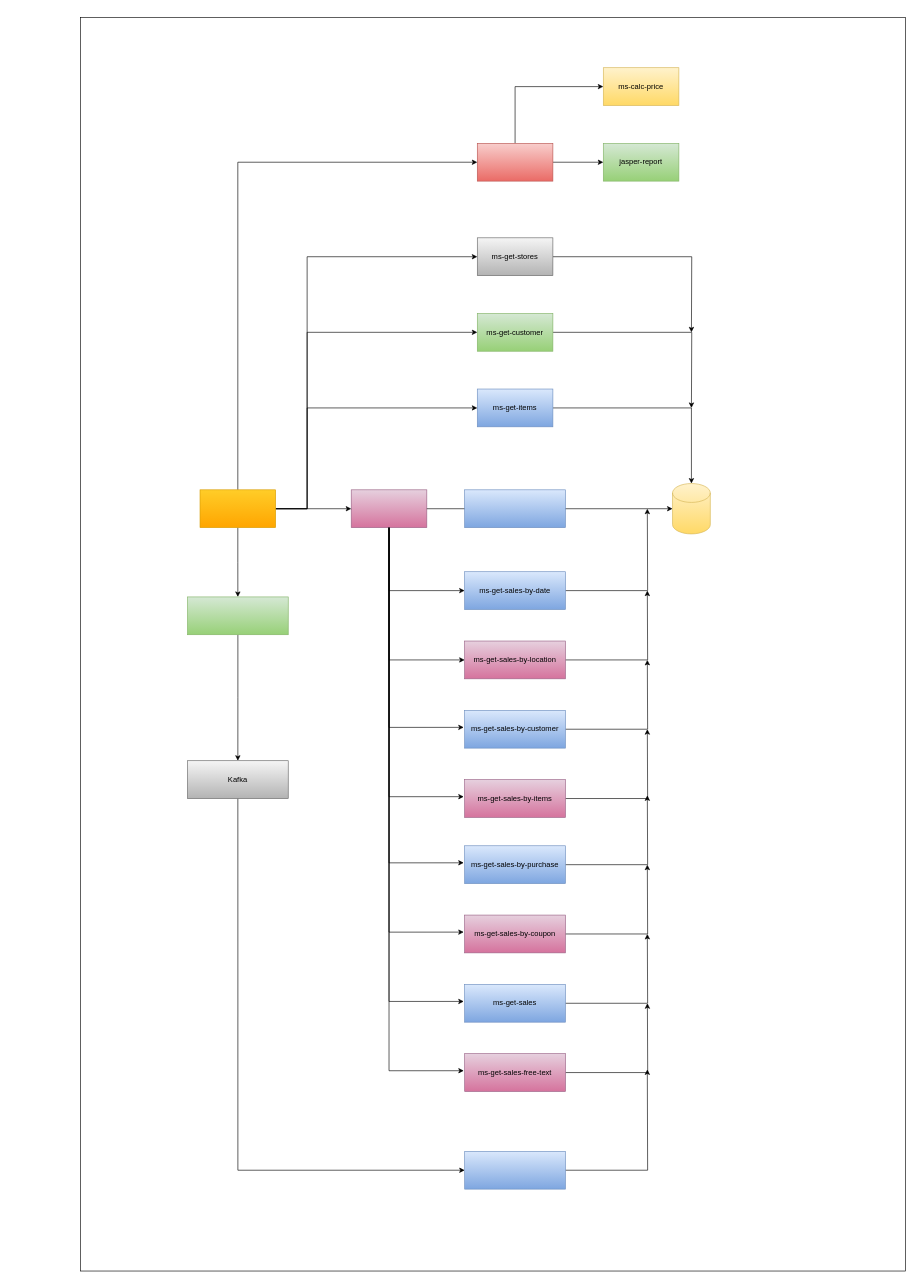
Some shapes in this 917 by 1282 pixel diagram are drawn without their labels. The shapes that lost their labels are listed below. From the top down, each one's centre as x and y in pixels, then its label:
At point (515, 162): "ms-generate-bill".
At point (237, 508): "UI".
At point (389, 508): "ms-get-sales-router".
At point (514, 508): "ms-get-all-sales".
At point (237, 615): "ms-sale-producer".
At point (514, 1170): "ms-sale-consumer".
